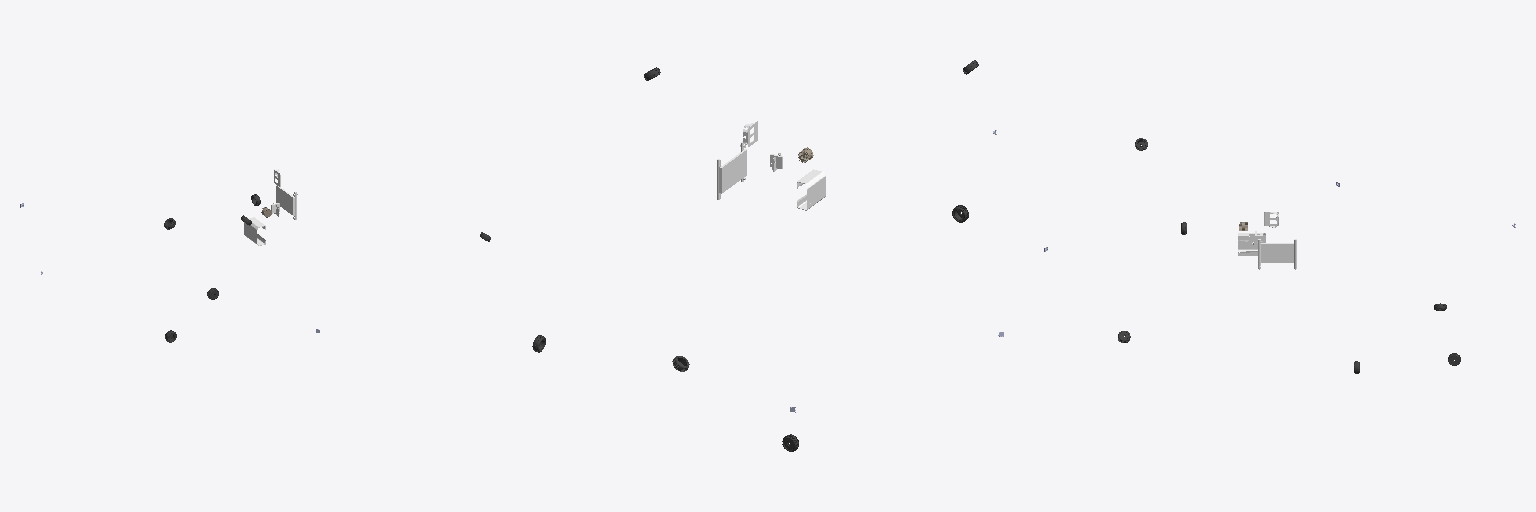
The robot description file, URDF, robot "AMAC_car_assy_9pm2":
<robot
  name="AMAC_car_assy_9pm2">
  <link
    name="base_link">
    <inertial>
      <origin
        xyz="0.166025978689335 0.107880342028048 0.0114040478505038"
        rpy="0 0 0" />
      <mass
        value="4.14800954871025" />
      <inertia
        ixx="0.0378468989497725"
        ixy="-0.0437315713488928"
        ixz="-0.0182482465235077"
        iyy="0.0995731025001106"
        iyz="-0.00850601840420408"
        izz="0.108939176688436" />
    </inertial>
    <visual>
      <origin
        xyz="0 0 0"
        rpy="0 0 0" />
      <geometry>
        <mesh
          filename="package://AMAC_car_assy_9pm2/meshes/base_link.STL" />
      </geometry>
      <material
        name="">
        <color
          rgba="1 1 1 1" />
      </material>
    </visual>
    <collision>
      <origin
        xyz="0 0 0"
        rpy="0 0 0" />
      <geometry>
        <mesh
          filename="package://AMAC_car_assy_9pm2/meshes/base_link.STL" />
      </geometry>
    </collision>
  </link>
  <link
    name="RF_wheel_turn">
    <inertial>
      <origin
        xyz="-1.23126955228344 -0.549882978478997 -0.394771389019161"
        rpy="0 0 0" />
      <mass
        value="0.0529847952512973" />
      <inertia
        ixx="0"
        ixy="0"
        ixz="0"
        iyy="0"
        iyz="0"
        izz="0" />
    </inertial>
    <visual>
      <origin
        xyz="0 0 0"
        rpy="0 0 0" />
      <geometry>
        <mesh
          filename="package://AMAC_car_assy_9pm2/meshes/RF_wheel_turn.STL" />
      </geometry>
      <material
        name="">
        <color
          rgba="0.298039215686275 0.298039215686275 0.298039215686275 1" />
      </material>
    </visual>
    <collision>
      <origin
        xyz="0 0 0"
        rpy="0 0 0" />
      <geometry>
        <mesh
          filename="package://AMAC_car_assy_9pm2/meshes/RF_wheel_turn.STL" />
      </geometry>
    </collision>
  </link>
  <joint
    name="right_turn_rev"
    type="revolute">
    <origin
      xyz="0.17938 -0.145 0.05762"
      rpy="-2.7214E-16 0 0" />
    <parent
      link="base_link" />
    <child
      link="RF_wheel_turn" />
    <axis
      xyz="1 0 0" />
    <limit
      effort="0"
      velocity="0" />
  </joint>
  <link
    name="RF_wheel">
    <inertial>
      <origin
        xyz="-1.23126955228344 -0.549882978478998 -0.394771389019161"
        rpy="0 0 0" />
      <mass
        value="0.0529847952512974" />
      <inertia
        ixx="0"
        ixy="0"
        ixz="0"
        iyy="0"
        iyz="0"
        izz="0" />
    </inertial>
    <visual>
      <origin
        xyz="0 0 0"
        rpy="0 0 0" />
      <geometry>
        <mesh
          filename="package://AMAC_car_assy_9pm2/meshes/RF_wheel.STL" />
      </geometry>
      <material
        name="">
        <color
          rgba="0.298039215686275 0.298039215686275 0.298039215686275 1" />
      </material>
    </visual>
    <collision>
      <origin
        xyz="0 0 0"
        rpy="0 0 0" />
      <geometry>
        <mesh
          filename="package://AMAC_car_assy_9pm2/meshes/RF_wheel.STL" />
      </geometry>
    </collision>
  </link>
  <joint
    name="RF_wheel_cont"
    type="continuous">
    <origin
      xyz="0 0 0"
      rpy="-3.9618E-37 0 0" />
    <parent
      link="RF_wheel_turn" />
    <child
      link="RF_wheel" />
    <axis
      xyz="0 1 0" />
  </joint>
  <link
    name="LF_wheel_turn">
    <inertial>
      <origin
        xyz="-0.545472943612066 0.549882978478996 -1.17231754561448"
        rpy="0 0 0" />
      <mass
        value="0.0529847952513019" />
      <inertia
        ixx="0"
        ixy="0"
        ixz="0"
        iyy="0"
        iyz="0"
        izz="0" />
    </inertial>
    <visual>
      <origin
        xyz="0 0 0"
        rpy="0 0 0" />
      <geometry>
        <mesh
          filename="package://AMAC_car_assy_9pm2/meshes/LF_wheel_turn.STL" />
      </geometry>
      <material
        name="">
        <color
          rgba="0.298039215686275 0.298039215686275 0.298039215686275 1" />
      </material>
    </visual>
    <collision>
      <origin
        xyz="0 0 0"
        rpy="0 0 0" />
      <geometry>
        <mesh
          filename="package://AMAC_car_assy_9pm2/meshes/LF_wheel_turn.STL" />
      </geometry>
    </collision>
  </link>
  <joint
    name="left_turn_rev"
    type="revolute">
    <origin
      xyz="0.179375934223985 0.145000000000001 0.0576199999999994"
      rpy="-2.72136117822989E-16 0 0" />
    <parent
      link="base_link" />
    <child
      link="LF_wheel_turn" />
    <axis
      xyz="1 0 0" />
  </joint>
  <link
    name="LF_wheel">
    <inertial>
      <origin
        xyz="-0.545472943612066 0.549882978478996 -1.17231754561448"
        rpy="0 0 0" />
      <mass
        value="0.052984795251302" />
      <inertia
        ixx="0"
        ixy="0"
        ixz="0"
        iyy="0"
        iyz="0"
        izz="0" />
    </inertial>
    <visual>
      <origin
        xyz="0 0 0"
        rpy="0 0 0" />
      <geometry>
        <mesh
          filename="package://AMAC_car_assy_9pm2/meshes/LF_wheel.STL" />
      </geometry>
      <material
        name="">
        <color
          rgba="0.298039215686275 0.298039215686275 0.298039215686275 1" />
      </material>
    </visual>
    <collision>
      <origin
        xyz="0 0 0"
        rpy="0 0 0" />
      <geometry>
        <mesh
          filename="package://AMAC_car_assy_9pm2/meshes/LF_wheel.STL" />
      </geometry>
    </collision>
  </link>
  <joint
    name="LF_wheel_cont"
    type="continuous">
    <origin
      xyz="0 0 0"
      rpy="-3.96178014104341E-37 0 0" />
    <parent
      link="LF_wheel_turn" />
    <child
      link="LF_wheel" />
    <axis
      xyz="0 1 0" />
  </joint>
  <link
    name="RB_wheel">
    <inertial>
      <origin
        xyz="1.15333843357393 -0.549882978478998 0.584533675342648"
        rpy="0 0 0" />
      <mass
        value="0.0529847952512978" />
      <inertia
        ixx="0"
        ixy="0"
        ixz="0"
        iyy="0"
        iyz="0"
        izz="0" />
    </inertial>
    <visual>
      <origin
        xyz="0 0 0"
        rpy="0 0 0" />
      <geometry>
        <mesh
          filename="package://AMAC_car_assy_9pm2/meshes/RB_wheel.STL" />
      </geometry>
      <material
        name="">
        <color
          rgba="0.298039215686275 0.298039215686275 0.298039215686275 1" />
      </material>
    </visual>
    <collision>
      <origin
        xyz="0 0 0"
        rpy="0 0 0" />
      <geometry>
        <mesh
          filename="package://AMAC_car_assy_9pm2/meshes/RB_wheel.STL" />
      </geometry>
    </collision>
  </link>
  <joint
    name="RB_wheel_cont"
    type="continuous">
    <origin
      xyz="-0.138624065776015 -0.144999999999999 0.0576199999999995"
      rpy="-2.72136117822989E-16 0 0" />
    <parent
      link="base_link" />
    <child
      link="RB_wheel" />
    <axis
      xyz="0 1 0" />
  </joint>
  <link
    name="LB_wheel">
    <inertial>
      <origin
        xyz="0.757440785926755 0.549882978478998 -1.04792777221668"
        rpy="0 0 0" />
      <mass
        value="0.0529847952512874" />
      <inertia
        ixx="0"
        ixy="0"
        ixz="0"
        iyy="0"
        iyz="0"
        izz="0" />
    </inertial>
    <visual>
      <origin
        xyz="0 0 0"
        rpy="0 0 0" />
      <geometry>
        <mesh
          filename="package://AMAC_car_assy_9pm2/meshes/LB_wheel.STL" />
      </geometry>
      <material
        name="">
        <color
          rgba="0.298039215686275 0.298039215686275 0.298039215686275 1" />
      </material>
    </visual>
    <collision>
      <origin
        xyz="0 0 0"
        rpy="0 0 0" />
      <geometry>
        <mesh
          filename="package://AMAC_car_assy_9pm2/meshes/LB_wheel.STL" />
      </geometry>
    </collision>
  </link>
  <joint
    name="LB_wheel_cont"
    type="continuous">
    <origin
      xyz="-0.138624065776015 0.145000000000001 0.0576199999999994"
      rpy="-2.72136117822989E-16 -1.11022302462516E-16 -4.93038065763132E-32" />
    <parent
      link="base_link" />
    <child
      link="LB_wheel" />
    <axis
      xyz="0 1 0" />
  </joint>
  <link
    name="lidar_base">
    <inertial>
      <origin
        xyz="-0.11740993783226 -0.168797654529726 -0.0833775843586243"
        rpy="0 0 0" />
      <mass
        value="0.455970555213361" />
      <inertia
        ixx="0"
        ixy="0"
        ixz="0"
        iyy="0"
        iyz="0"
        izz="0" />
    </inertial>
    <visual>
      <origin
        xyz="0 0 0"
        rpy="0 0 0" />
      <geometry>
        <mesh
          filename="package://AMAC_car_assy_9pm2/meshes/lidar_base.STL" />
      </geometry>
      <material
        name="">
        <color
          rgba="0.658823529411765 0.619607843137255 0.56078431372549 1" />
      </material>
    </visual>
    <collision>
      <origin
        xyz="0 0 0"
        rpy="0 0 0" />
      <geometry>
        <mesh
          filename="package://AMAC_car_assy_9pm2/meshes/lidar_base.STL" />
      </geometry>
    </collision>
  </link>
  <joint
    name="lidar_base_fix"
    type="fixed">
    <origin
      xyz="-0.045 6.0707851028269E-05 0.18324"
      rpy="1.39890124957013E-32 -4.44109895871787E-16 -1.60920486383744E-16" />
    <parent
      link="base_link" />
    <child
      link="lidar_base" />
    <axis
      xyz="0 0 0" />
  </joint>
  <link
    name="IMU_base">
    <inertial>
      <origin
        xyz="-0.39959 0.12006 -0.29451"
        rpy="0 0 0" />
      <mass
        value="0.010464" />
      <inertia
        ixx="4.1597E-07"
        ixy="-5.3981E-10"
        ixz="-2.4781E-09"
        iyy="3.6973E-07"
        iyz="6.2867E-08"
        izz="2.7656E-07" />
    </inertial>
    <visual>
      <origin
        xyz="0 0 0"
        rpy="0 0 0" />
      <geometry>
        <mesh
          filename="package://AMAC_car_assy_9pm2/meshes/IMU_base.STL" />
      </geometry>
      <material
        name="">
        <color
          rgba="1 1 1 1" />
      </material>
    </visual>
    <collision>
      <origin
        xyz="0 0 0"
        rpy="0 0 0" />
      <geometry>
        <mesh
          filename="package://AMAC_car_assy_9pm2/meshes/IMU_base.STL" />
      </geometry>
    </collision>
  </link>
  <joint
    name="IMU_base_fix"
    type="fixed">
    <origin
      xyz="0.155326383380844 -0.00344999989920807 0.1873276"
      rpy="-2.72136117822987E-16 -1.66574825737217E-16 1.90098110802259E-16" />
    <parent
      link="base_link" />
    <child
      link="IMU_base" />
    <axis
      xyz="0 0 0" />
  </joint>
  <link
    name="left_cam">
    <inertial>
      <origin
        xyz="-0.96873 -0.48253 -1.9072"
        rpy="0 0 0" />
      <mass
        value="0.0057446" />
      <inertia
        ixx="0"
        ixy="0"
        ixz="0"
        iyy="0"
        iyz="0"
        izz="0" />
    </inertial>
    <visual>
      <origin
        xyz="0 0 0"
        rpy="0 0 0" />
      <geometry>
        <mesh
          filename="package://AMAC_car_assy_9pm2/meshes/left_cam.STL" />
      </geometry>
      <material
        name="">
        <color
          rgba="0.79216 0.81961 0.93333 1" />
      </material>
    </visual>
    <collision>
      <origin
        xyz="0 0 0"
        rpy="0 0 0" />
      <geometry>
        <mesh
          filename="package://AMAC_car_assy_9pm2/meshes/left_cam.STL" />
      </geometry>
    </collision>
  </link>
  <joint
    name="left_cam_fix"
    type="fixed">
    <origin
      xyz="0.2308 0.053407 0.14724"
      rpy="1.5708 1.2163E-15 2.2689" />
    <parent
      link="base_link" />
    <child
      link="left_cam" />
    <axis
      xyz="0 0 0" />
  </joint>
  <link
    name="mid_cam">
    <inertial>
      <origin
        xyz="-0.96873 -0.48253 -1.9072"
        rpy="0 0 0" />
      <mass
        value="0.0057446" />
      <inertia
        ixx="0"
        ixy="0"
        ixz="0"
        iyy="0"
        iyz="0"
        izz="0" />
    </inertial>
    <visual>
      <origin
        xyz="0 0 0"
        rpy="0 0 0" />
      <geometry>
        <mesh
          filename="package://AMAC_car_assy_9pm2/meshes/mid_cam.STL" />
      </geometry>
      <material
        name="">
        <color
          rgba="0.79216 0.81961 0.93333 1" />
      </material>
    </visual>
    <collision>
      <origin
        xyz="0 0 0"
        rpy="0 0 0" />
      <geometry>
        <mesh
          filename="package://AMAC_car_assy_9pm2/meshes/mid_cam.STL" />
      </geometry>
    </collision>
  </link>
  <joint
    name="mid_cam_fix"
    type="fixed">
    <origin
      xyz="0.24638 0.00035411 0.14724"
      rpy="1.5708 2.7212E-16 1.5708" />
    <parent
      link="base_link" />
    <child
      link="mid_cam" />
    <axis
      xyz="0 0 0" />
  </joint>
  <link
    name="right_cam">
    <inertial>
      <origin
        xyz="-0.96873 -0.48253 -1.9072"
        rpy="0 0 0" />
      <mass
        value="0.0057446" />
      <inertia
        ixx="0"
        ixy="0"
        ixz="0"
        iyy="0"
        iyz="0"
        izz="0" />
    </inertial>
    <visual>
      <origin
        xyz="0 0 0"
        rpy="0 0 0" />
      <geometry>
        <mesh
          filename="package://AMAC_car_assy_9pm2/meshes/right_cam.STL" />
      </geometry>
      <material
        name="">
        <color
          rgba="0.79216 0.81961 0.93333 1" />
      </material>
    </visual>
    <collision>
      <origin
        xyz="0 0 0"
        rpy="0 0 0" />
      <geometry>
        <mesh
          filename="package://AMAC_car_assy_9pm2/meshes/right_cam.STL" />
      </geometry>
    </collision>
  </link>
  <joint
    name="right_cam_fix"
    type="fixed">
    <origin
      xyz="0.23088 -0.053472 0.14724"
      rpy="1.5708 1.886E-15 0.87266" />
    <parent
      link="base_link" />
    <child
      link="right_cam" />
    <axis
      xyz="0 0 0" />
  </joint>
</robot>

--- Facts derived from the render (not from the file) ---
Views: 3 orthographic renders of the robot side by side, from view 1: azimuth 30°, elevation 25°; view 2: azimuth 150°, elevation 25°; view 3: azimuth 270°, elevation 25°.
Robot: AMAC_car_assy_9pm2 — 12 links, 11 joints (2 revolute, 4 continuous, 5 fixed); root link base_link; default pose: all joints at 0.
Visible links, largest first — view 1: base_link; view 2: base_link; view 3: base_link.
Boxes of the visible links, x1,y1,x2,y2 form: base_link: [244, 169, 297, 245]; base_link: [717, 121, 825, 210]; base_link: [1238, 212, 1296, 269].
Size in the robot's own frame: 3.85 by 4.19 by 2.17 metres.
11 mesh visuals loaded from 12 distinct referenced files (11 binary STL); not drawn: 1 (reference not matched to a file when rendering).
